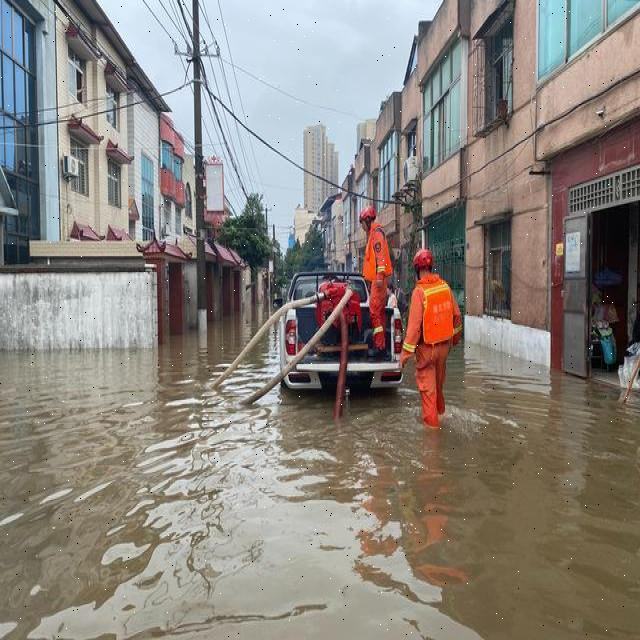rescuer: (406, 239, 468, 443), (350, 198, 400, 357)
